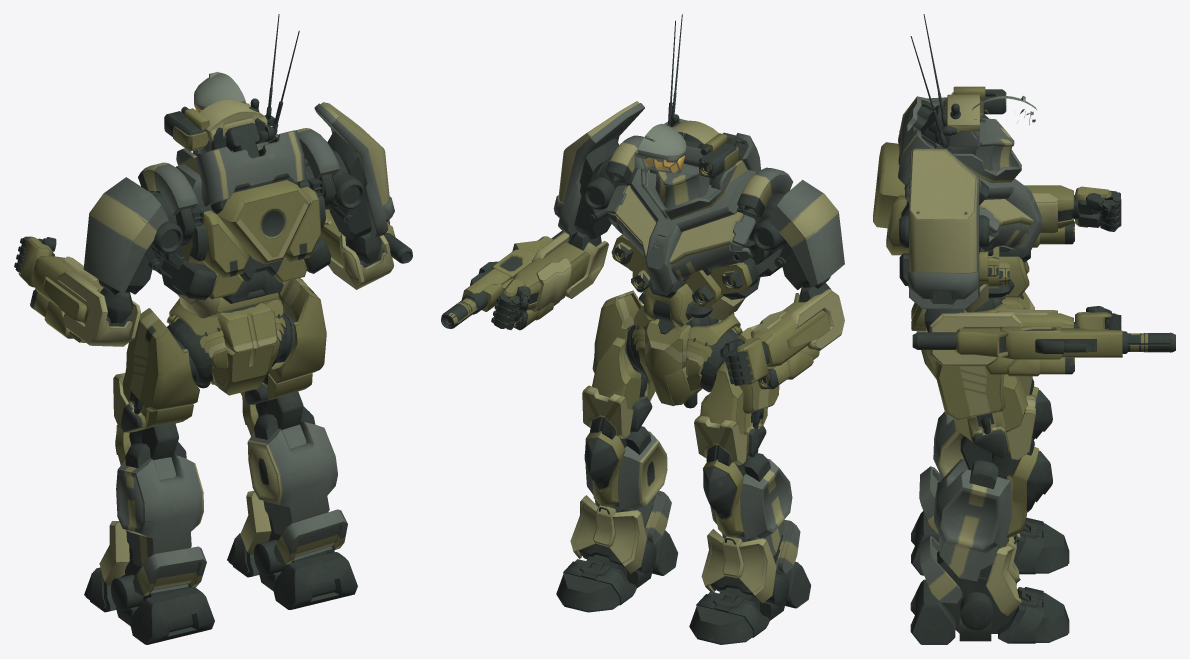
Rendered from Blackknight.glb.
3 renders of one model, left to right at view 1: azimuth 30°, elevation 25°; view 2: azimuth 150°, elevation 25°; view 3: azimuth 270°, elevation 25°, orthographic. The views are drawn at different scales.
Parts seen in each view (by area): view 1: CenterTorso_CoreAndPelvis, LeftLeg_Shin, RightLeg_Shin, LeftLeg_Thigh, LeftTorso_TorsoShell, LeftArm_ShoulderAndUpperarm, LeftArm_ForearmAndFist, RightArm_ShoulderAndUpperarm, RightLeg_Thigh, LeftLeg_Foot, RightLeg_Foot, RightTorso_TorsoShell (+7 smaller); view 2: CenterTorso_CoreAndPelvis, LeftLeg_Shin, RightLeg_Shin, LeftTorso_TorsoShell, LeftArm_ShoulderAndUpperarm, RightLeg_Thigh, LeftArm_ForearmAndFist, RightArm_ShoulderAndUpperarm, RightArm_ForearmAndFist, LeftLeg_Thigh, LeftLeg_Foot, RightLeg_Foot (+6 smaller); view 3: RightLeg_Shin, CenterTorso_CoreAndPelvis, RightArm_ShoulderAndUpperarm, RightLeg_Thigh, RightLeg_Foot, RightArm_Weapon5, RightTorso_TorsoShell, RightArm_ForearmAndFist, LeftArm_ForearmAndFist, LeftLeg_Foot, LeftLeg_Shin, RightArm_Weapon6 (+2 smaller).
Boxes of the visible parts, x1,y1,x2,y2 form: CenterTorso_CoreAndPelvis: (167,14,311,395); LeftLeg_Shin: (99,425,206,596); RightLeg_Shin: (240,397,347,565); LeftLeg_Thigh: (113,308,199,459); LeftTorso_TorsoShell: (138,162,250,318); LeftArm_ShoulderAndUpperarm: (83,177,182,294); LeftArm_ForearmAndFist: (14,236,140,346); RightArm_ShoulderAndUpperarm: (314,102,394,241); RightLeg_Thigh: (240,278,326,429); LeftLeg_Foot: (84,559,214,644); RightLeg_Foot: (227,533,357,609); RightTorso_TorsoShell: (274,128,339,300); CenterTorso_CoreAndPelvis: (630,14,760,408); LeftLeg_Shin: (701,453,800,603); RightLeg_Shin: (570,426,671,573); LeftTorso_TorsoShell: (669,167,792,320); LeftArm_ShoulderAndUpperarm: (752,180,844,289); RightLeg_Thigh: (582,290,655,447); LeftArm_ForearmAndFist: (719,283,844,385); RightArm_ShoulderAndUpperarm: (553,101,644,239); RightArm_ForearmAndFist: (491,231,608,329); LeftLeg_Thigh: (694,324,779,475); LeftLeg_Foot: (689,549,811,644); RightLeg_Foot: (556,530,677,612); RightLeg_Shin: (919,447,1052,616); CenterTorso_CoreAndPelvis: (873,14,1042,379); RightArm_ShoulderAndUpperarm: (899,148,989,309); RightLeg_Thigh: (935,361,1035,479); RightLeg_Foot: (910,573,1069,644); RightArm_Weapon5: (912,326,1175,359); RightTorso_TorsoShell: (886,180,1033,312); RightArm_ForearmAndFist: (924,306,1121,366); LeftArm_ForearmAndFist: (1024,185,1121,233); LeftLeg_Foot: (911,511,1069,575); LeftLeg_Shin: (919,386,1052,540); RightArm_Weapon6: (985,357,1074,376).
Size of the model in its own units: 1.57 by 2.71 by 1.25.
4 materials, 2 textured.
